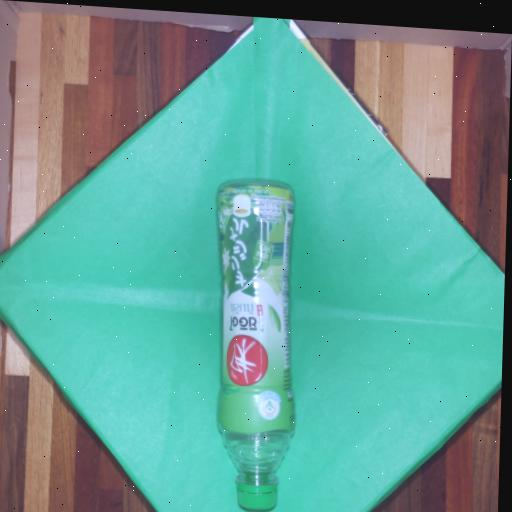bottle: (204, 168, 308, 512)
